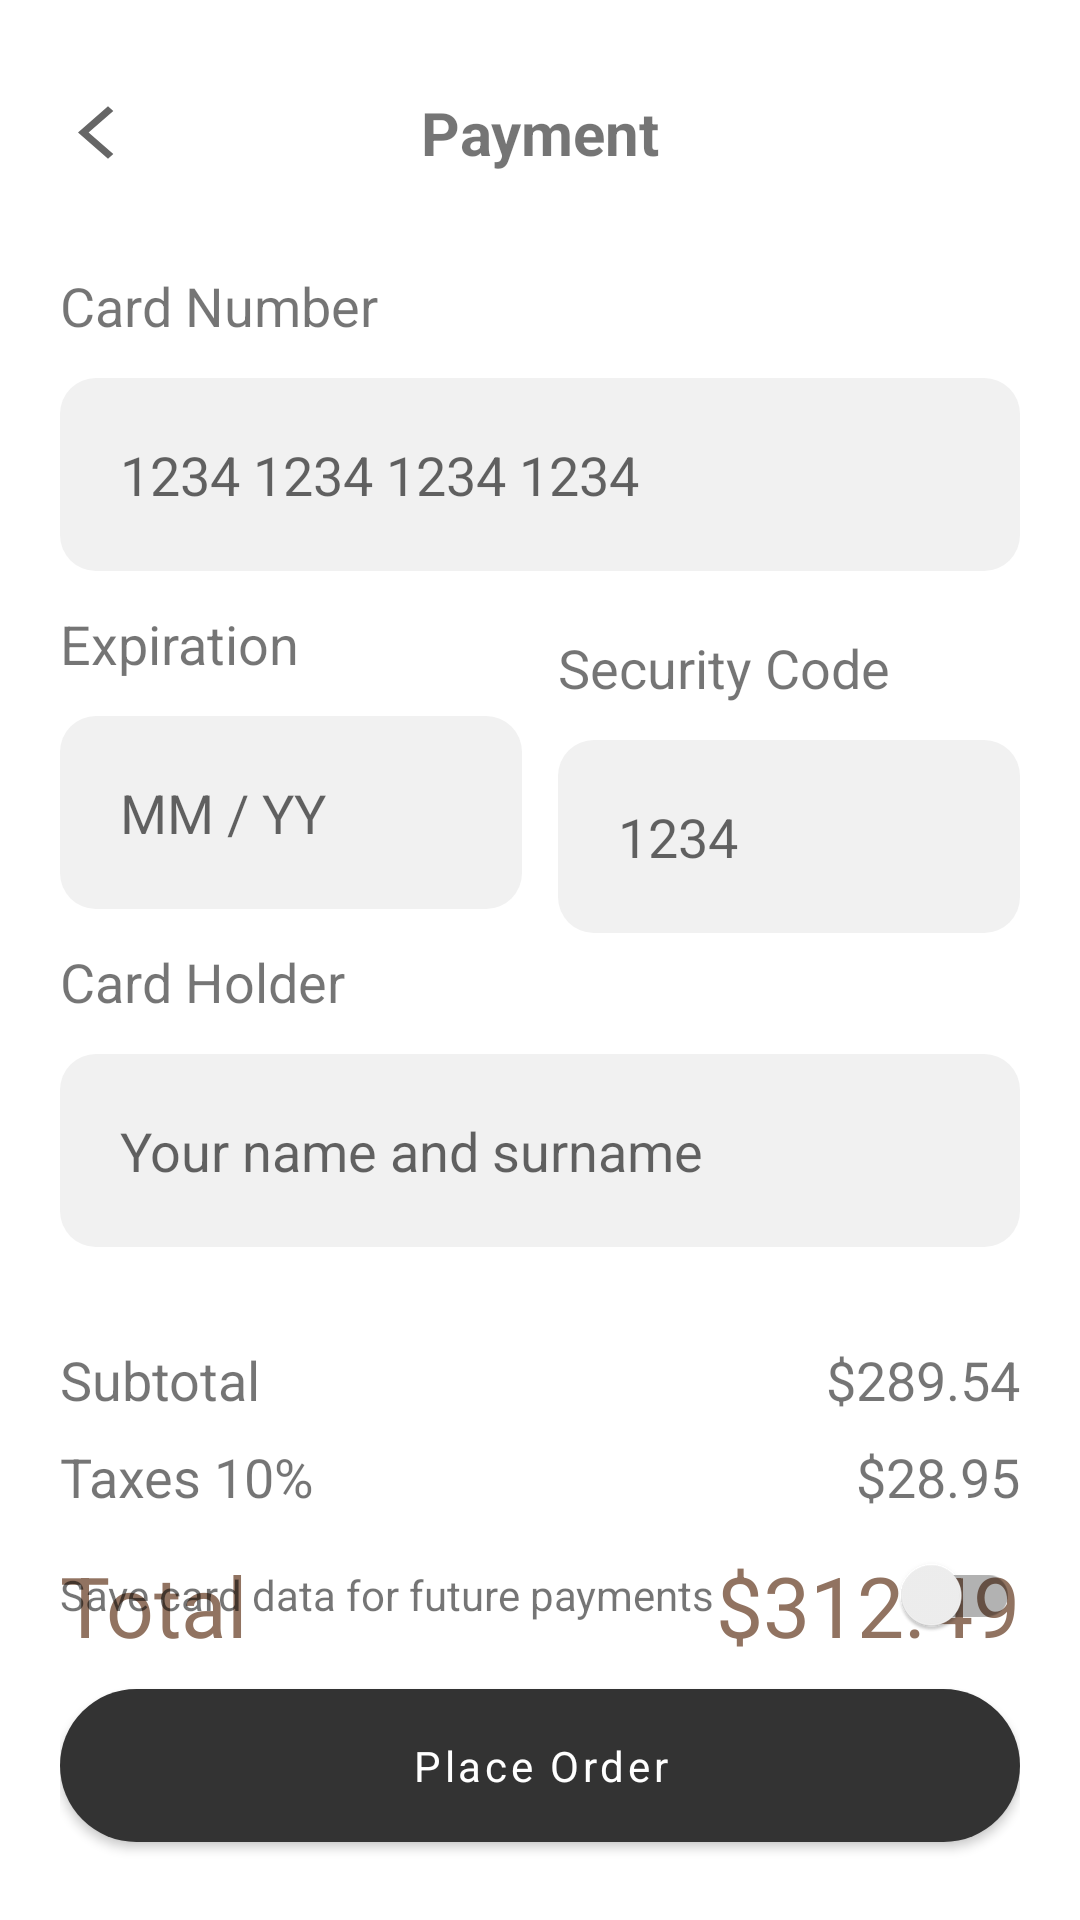

Icon click points for this 1080px x 1920px phone screenshot, format (x=x, y=y):
arrow back: (x=95, y=132)
